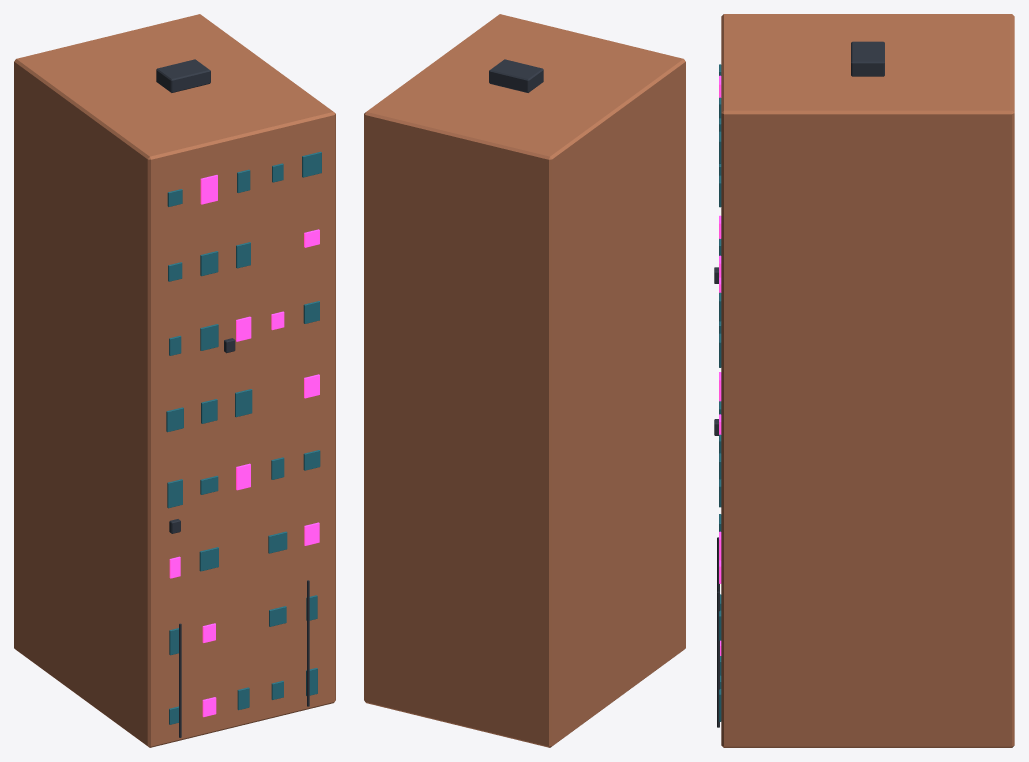
The model's file is building_010_seed11.glb.
3 views of the same model, side by side, from view 1: azimuth 30°, elevation 25°; view 2: azimuth 150°, elevation 25°; view 3: azimuth 270°, elevation 25° (orthographic). The views are drawn at different scales.
Visible parts, largest first — view 1: building_010_seed11; view 2: building_010_seed11; view 3: building_010_seed11.
Boxes of the visible parts, <box> form: building_010_seed11: <box>14,14,335,747</box>; building_010_seed11: <box>364,14,685,747</box>; building_010_seed11: <box>714,14,1014,747</box>.
Bounding box in the file's own units: 7.01 × 21.56 × 8.99.
